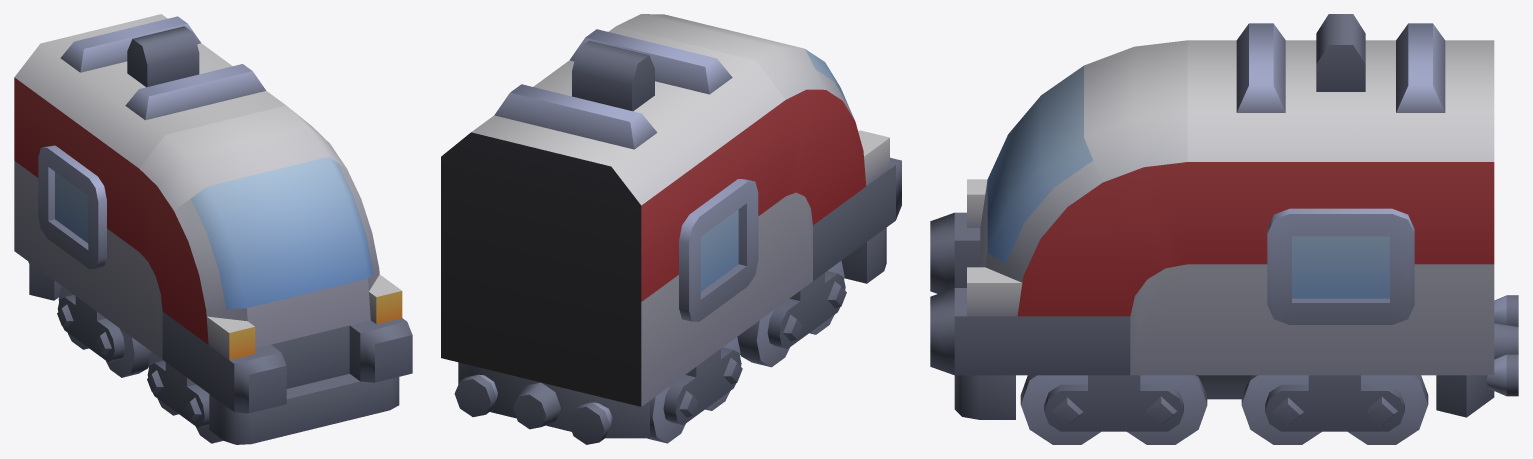
File: train-electric-city-a.glb
3 renders of one model, left to right at view 1: azimuth 30°, elevation 25°; view 2: azimuth 150°, elevation 25°; view 3: azimuth 270°, elevation 25°, orthographic. The views are drawn at different scales.
Visible parts, largest first — view 1: train-electric-city-a, wheels-back, wheels-front; view 2: train-electric-city-a, wheels-front, wheels-back; view 3: train-electric-city-a, wheels-front, wheels-back.
Part boxes in pixels (x1,y1,x2,y2): train-electric-city-a: [14, 14, 412, 444]; wheels-back: [57, 286, 150, 377]; wheels-front: [147, 352, 223, 443]; train-electric-city-a: [441, 14, 901, 444]; wheels-front: [737, 261, 846, 367]; wheels-back: [647, 337, 742, 443]; train-electric-city-a: [930, 14, 1518, 419]; wheels-front: [1020, 375, 1207, 444]; wheels-back: [1241, 375, 1428, 444].
Size of the model in its own units: 1.1 by 1.68 by 2.4.
